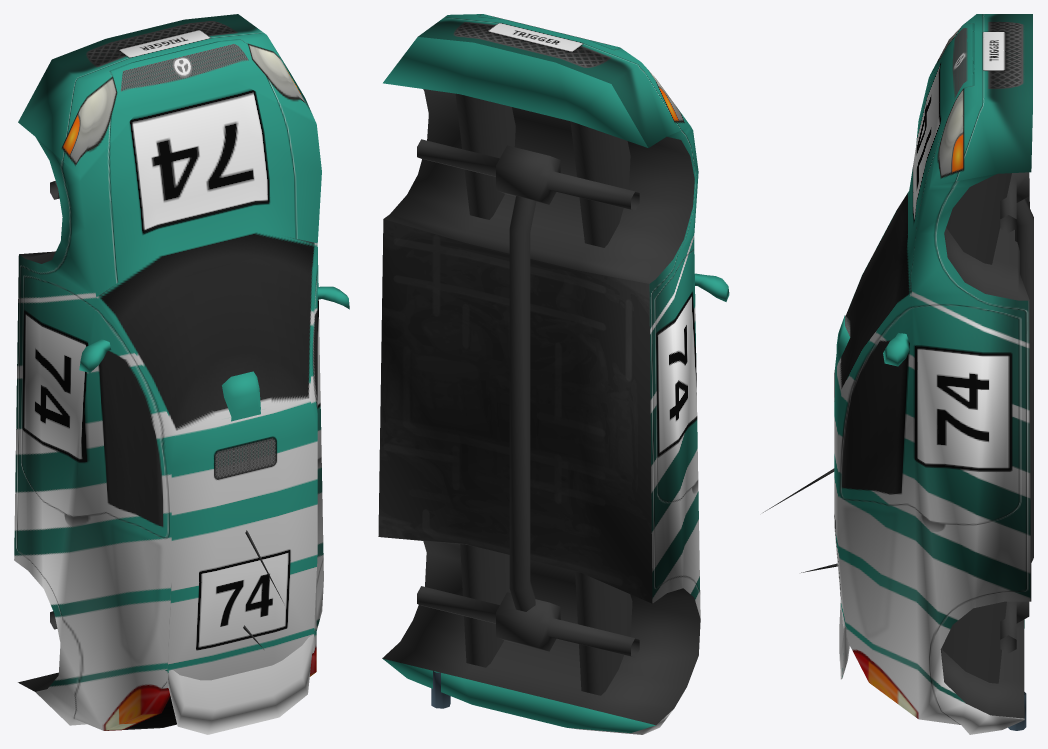
Rendered from fox_super500.obj.
The picture shows the model from 3 angles, left to right: view 1: azimuth 30°, elevation 25°; view 2: azimuth 150°, elevation 25°; view 3: azimuth 270°, elevation 25°; orthographic projection. The views are drawn at different scales.
Parts seen in each view (by area): view 1: body_Box01.002; view 2: body_Box01.002; view 3: body_Box01.002.
Boxes of the visible parts, x1=… form: body_Box01.002: x1=14, y1=14, x2=349, y2=734; body_Box01.002: x1=378, y1=14, x2=729, y2=734; body_Box01.002: x1=763, y1=14, x2=1033, y2=734.
Bounding box in the file's own units: 1.77 × 4.15 × 1.61.
2 materials, 2 textured.
